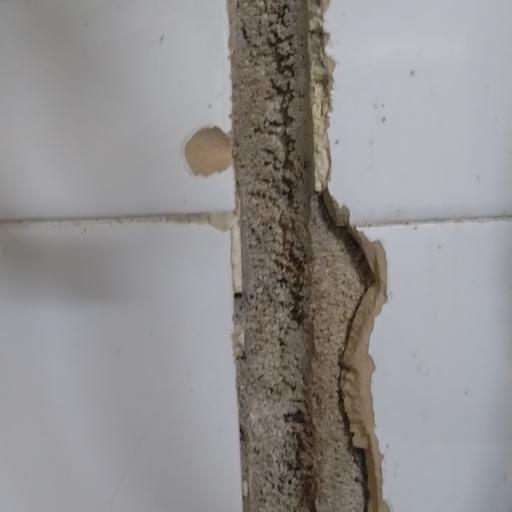spalling: (213, 0, 406, 512)
